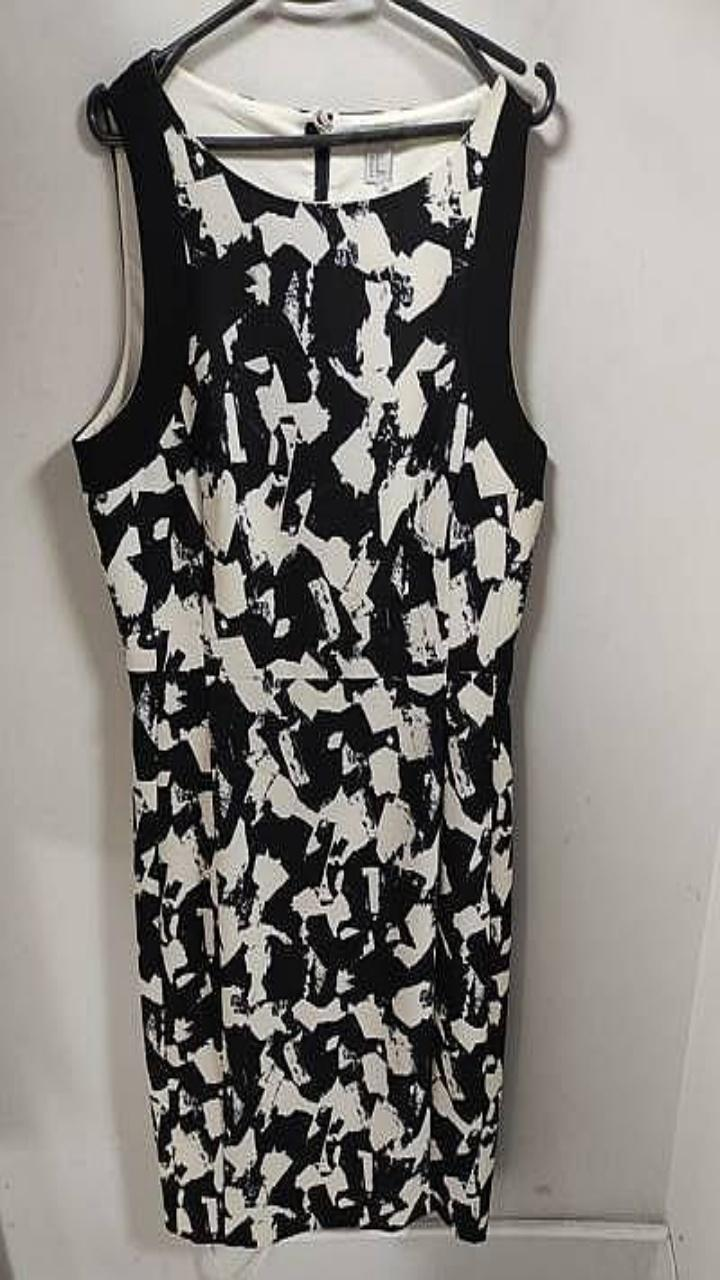Dresses: (73, 54, 546, 1246)
